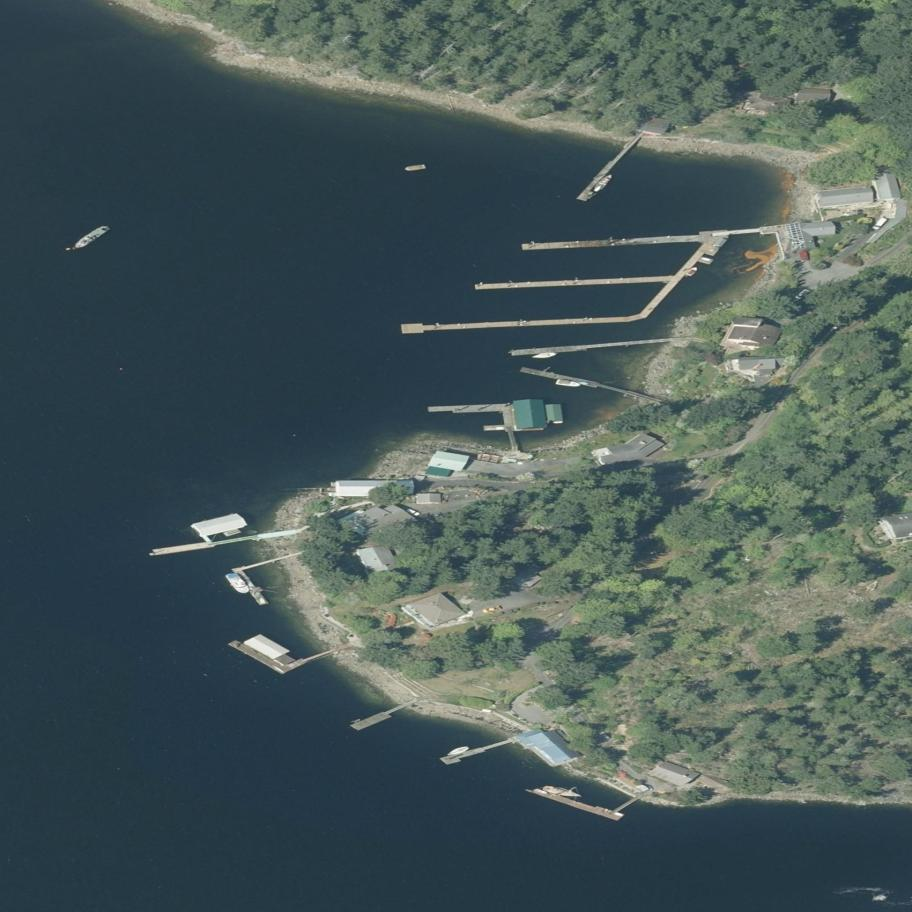large-vehicle: (871, 215, 889, 234)
ship: (67, 221, 113, 256), (224, 568, 251, 599), (541, 784, 583, 801), (591, 170, 618, 196), (444, 742, 471, 759), (552, 378, 583, 388), (529, 352, 560, 360), (686, 264, 699, 279), (403, 164, 427, 172), (533, 787, 549, 796), (257, 597, 268, 605)
small-vehicle: (793, 287, 812, 303), (480, 605, 504, 615), (597, 729, 612, 744), (405, 508, 423, 518), (799, 250, 810, 262)
